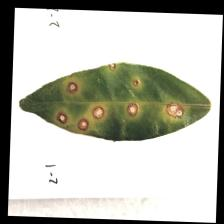canker: (52, 54, 190, 141)
